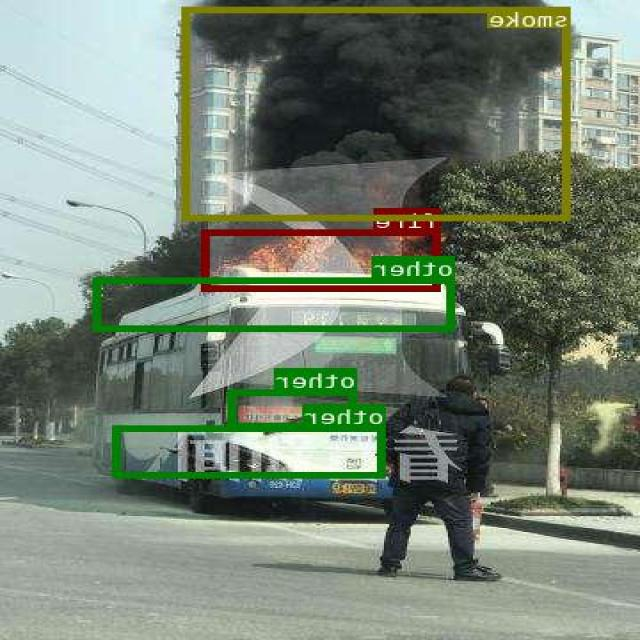fire: (203, 228, 441, 290)
other: (96, 276, 456, 330), (115, 424, 387, 478), (231, 389, 358, 428)
smoke: (184, 6, 572, 219)
